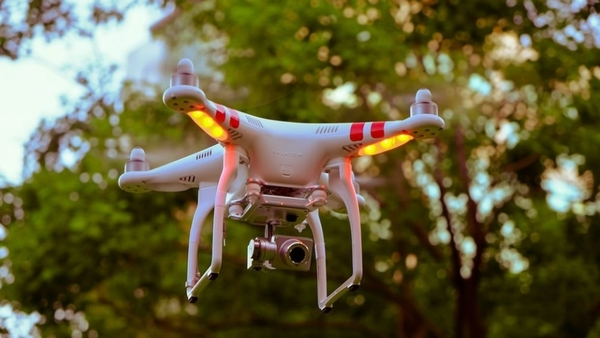drone: (117, 55, 446, 311)
